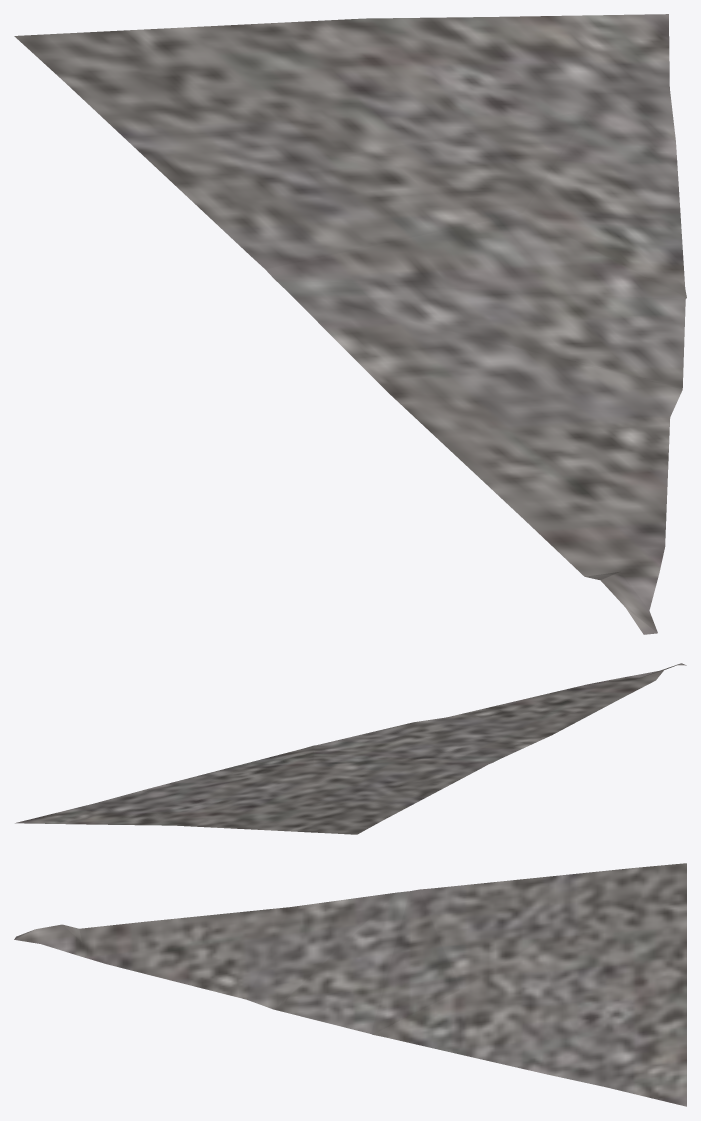
3 views of the same model, one above another, from view 1: azimuth 30°, elevation 25°; view 2: azimuth 150°, elevation 25°; view 3: azimuth 270°, elevation 25° (orthographic). The views are drawn at different scales.
Size of the model in its own units: 0.3666 by 0.0737 by 0.6126.
1 material, 1 textured.
